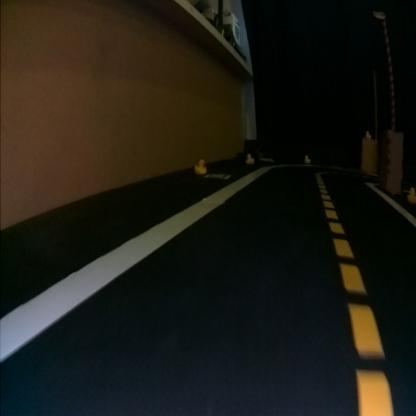Duckie: (196, 158, 206, 172), (247, 154, 254, 162)
QR code: (206, 172, 230, 178)
